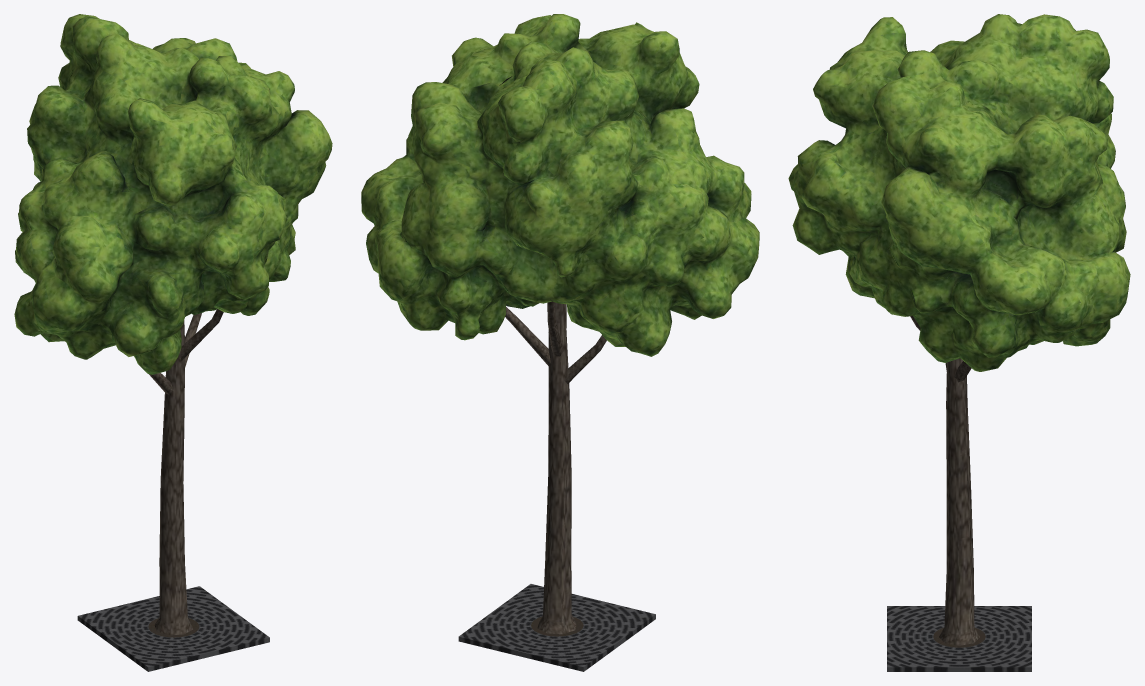
Rendered from PH_StreetTree__Body.fbx.
The picture shows the model from 3 angles, left to right: view 1: azimuth 30°, elevation 25°; view 2: azimuth 150°, elevation 25°; view 3: azimuth 270°, elevation 25°; orthographic projection. The views are drawn at different scales.
Parts seen in each view (by area): view 1: PH_StreetTree__Body; view 2: PH_StreetTree__Body; view 3: PH_StreetTree__Body.
Part boxes in pixels (x1,y1,x2,y2): PH_StreetTree__Body: [14, 14, 332, 671]; PH_StreetTree__Body: [361, 14, 759, 671]; PH_StreetTree__Body: [788, 14, 1130, 671].
Size of the model in its own units: 2.95 by 5.1 by 2.6.
